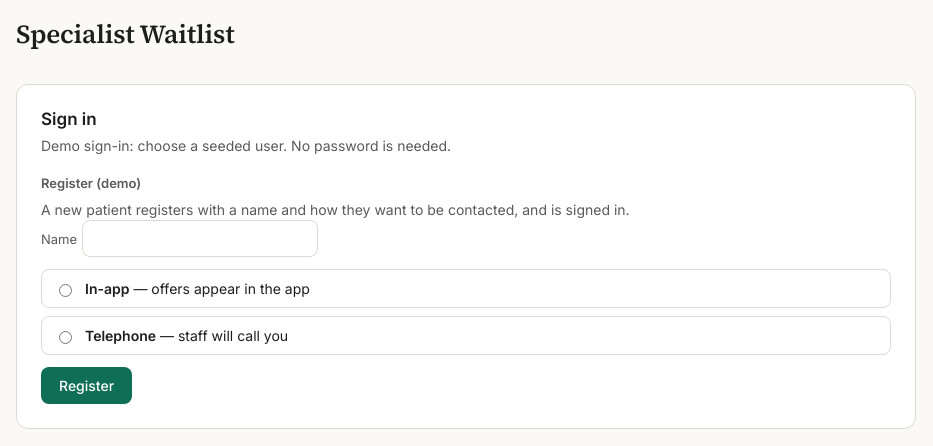
Test: demo registration on the sign-in screen (9.1) › registers with a name and a preference, signs in as the new patient and lands on the patient view
Expected: the heading "Register (demo)" is shown, [41,175,141,191]
Type "  Lucía Fernández " into the field labelled "Name" at {"x": 200, "y": 239}, box [82,220,318,257]
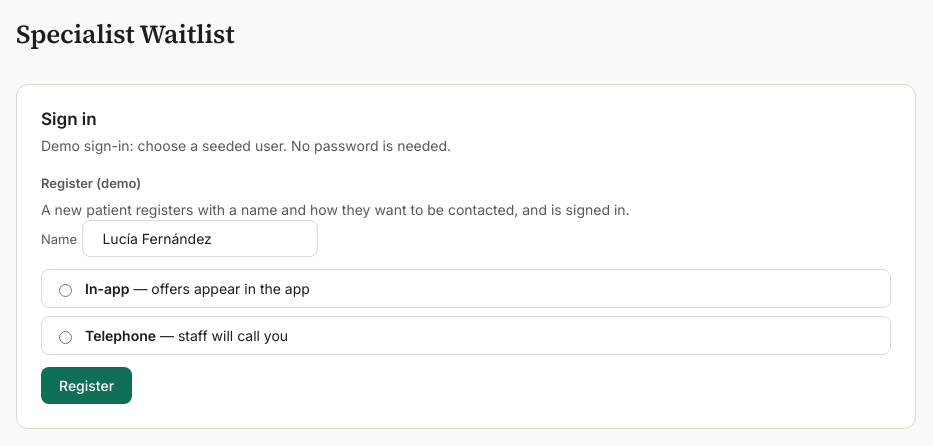
Click the radio button labelled "Telephone — staff will call you" at {"x": 66, "y": 337}, box [59,331,72,344]
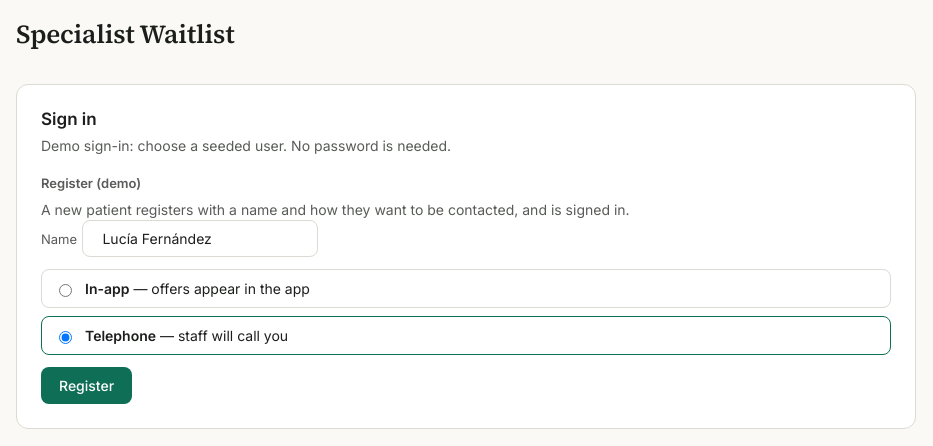
Click the button "Register" at {"x": 87, "y": 386}, box [41,367,132,404]
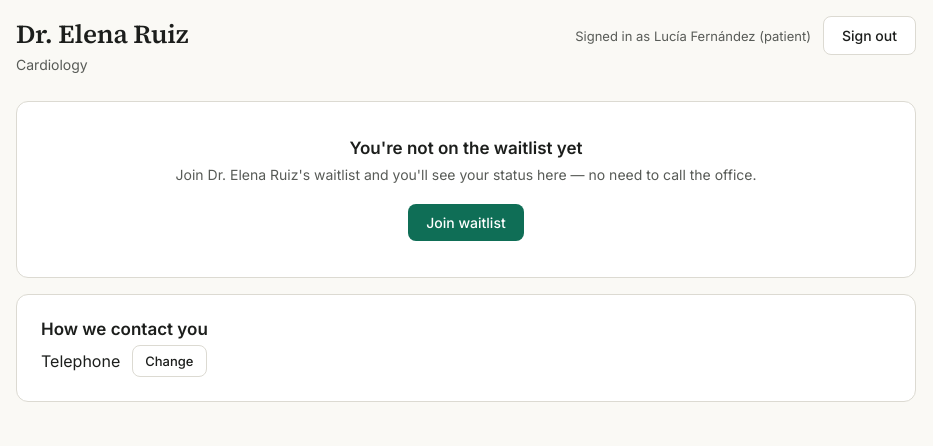
Expected: the heading "You're not on the waitlist yet" is shown, [350,138,583,158]
Expected: the heading "Register (demo)" is gone
